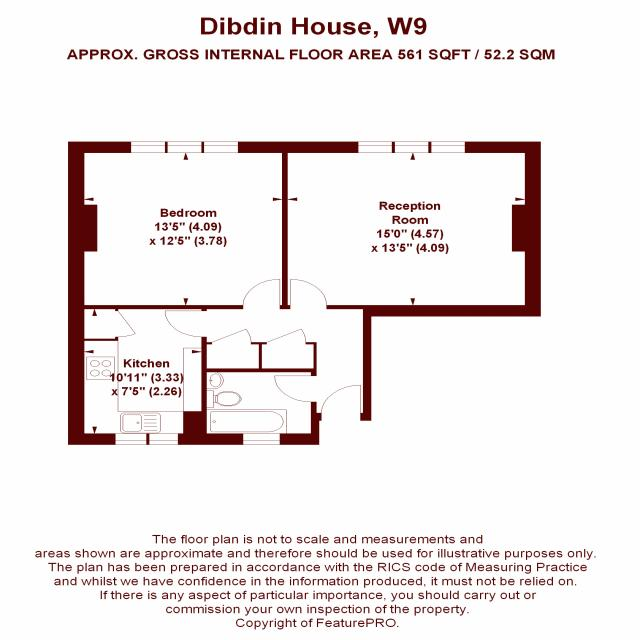DOOR: (320, 384, 362, 421), (273, 375, 317, 403), (242, 278, 281, 309), (289, 279, 328, 309), (164, 310, 207, 337)
ROOM: (281, 142, 541, 318), (68, 141, 288, 309), (68, 305, 207, 445)
WINDOW: (243, 433, 280, 445), (130, 141, 166, 153), (203, 141, 239, 153), (358, 141, 393, 153), (394, 141, 429, 153), (431, 141, 466, 153), (167, 141, 202, 153), (115, 433, 147, 445), (149, 433, 179, 445)
